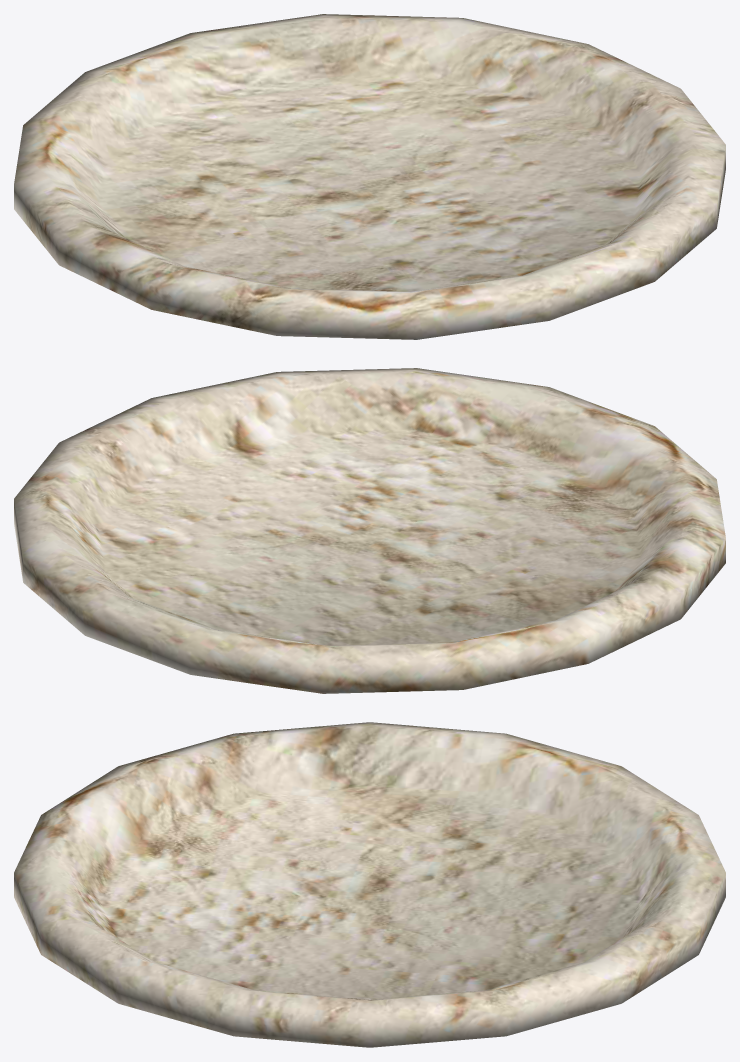
Rendered from Dough.fbx.
3 views of the same model, one above another, from view 1: azimuth 30°, elevation 25°; view 2: azimuth 150°, elevation 25°; view 3: azimuth 270°, elevation 25° (orthographic).
Visible parts, largest first — view 1: Dough; view 2: Dough; view 3: Dough.
Part boxes in pixels (<box>): Dough: <box>14,14,725,339</box>; Dough: <box>14,368,725,693</box>; Dough: <box>14,722,725,1047</box>.
Size of the model in its own units: 65.67 by 4.11 by 65.67.
